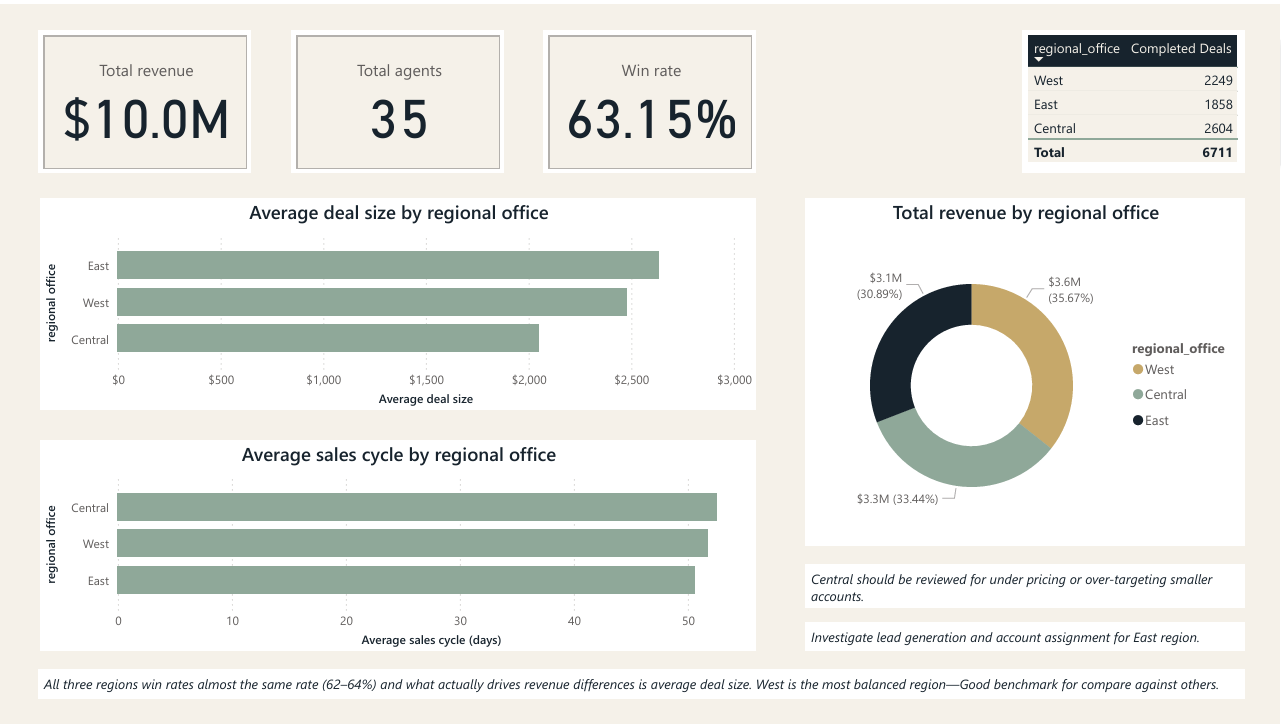

Layout of this report page (visuals, bound fields, positions):
{"tool":"powerbi","page":{"name":"Regional Performance","canvas":[1280,720],"ordinal":1},"visuals":[{"type":"barChart","title":"Average deal size by regional office","fields":{"Category":["sales_teams.regional_office"],"Y":["sales_pipeline.avg_deal_size"]},"box":[40,194,716,212],"z":0},{"type":"barChart","title":"Average sales cycle by regional office","fields":{"Category":["sales_teams.regional_office"],"Y":["sales_pipeline.avg_sales_cycle"]},"box":[40,436,716,211],"z":1000},{"type":"cardVisual","fields":{"Data":["sales_pipeline.Total revenue"]},"box":[38,26,213,143],"z":2000},{"type":"donutChart","title":"Total revenue by regional office","fields":{"Category":["sales_teams.regional_office"],"Y":["sales_pipeline.Total revenue"]},"box":[805,194,440,348],"z":3000},{"type":"tableEx","fields":{"Values":["sales_teams.regional_office","sales_pipeline.Completed Deals"]},"box":[1022,26,223,143],"z":4000},{"type":"textbox","box":[38,665,1207,30],"z":5000},{"type":"textbox","box":[805,618,440,29],"z":6000},{"type":"textbox","box":[805,560,440,44],"z":7000},{"type":"cardVisual","fields":{"Data":["sales_pipeline.Total sales agents"]},"box":[291,26,213,143],"z":8000},{"type":"cardVisual","fields":{"Data":["sales_pipeline.Win rate"]},"box":[543,26,213,143],"z":9000}]}

Visuals, with their boxes in screenshot pixels (x1, y1, x2, y2), scaled from the page's 1280x720 canvas onto the 1282x725 screenshot:
"Average deal size by regional office" barChart: [40, 195, 757, 409]
"Average sales cycle by regional office" barChart: [40, 439, 757, 651]
cardVisual - sales_pipeline.Total revenue: [38, 26, 251, 170]
"Total revenue by regional office" donutChart: [806, 195, 1247, 546]
tableEx - sales_teams.regional_office x sales_pipeline.Completed Deals: [1024, 26, 1247, 170]
textbox: [38, 670, 1247, 700]
textbox: [806, 622, 1247, 651]
textbox: [806, 564, 1247, 608]
cardVisual - sales_pipeline.Total sales agents: [291, 26, 505, 170]
cardVisual - sales_pipeline.Win rate: [544, 26, 757, 170]
